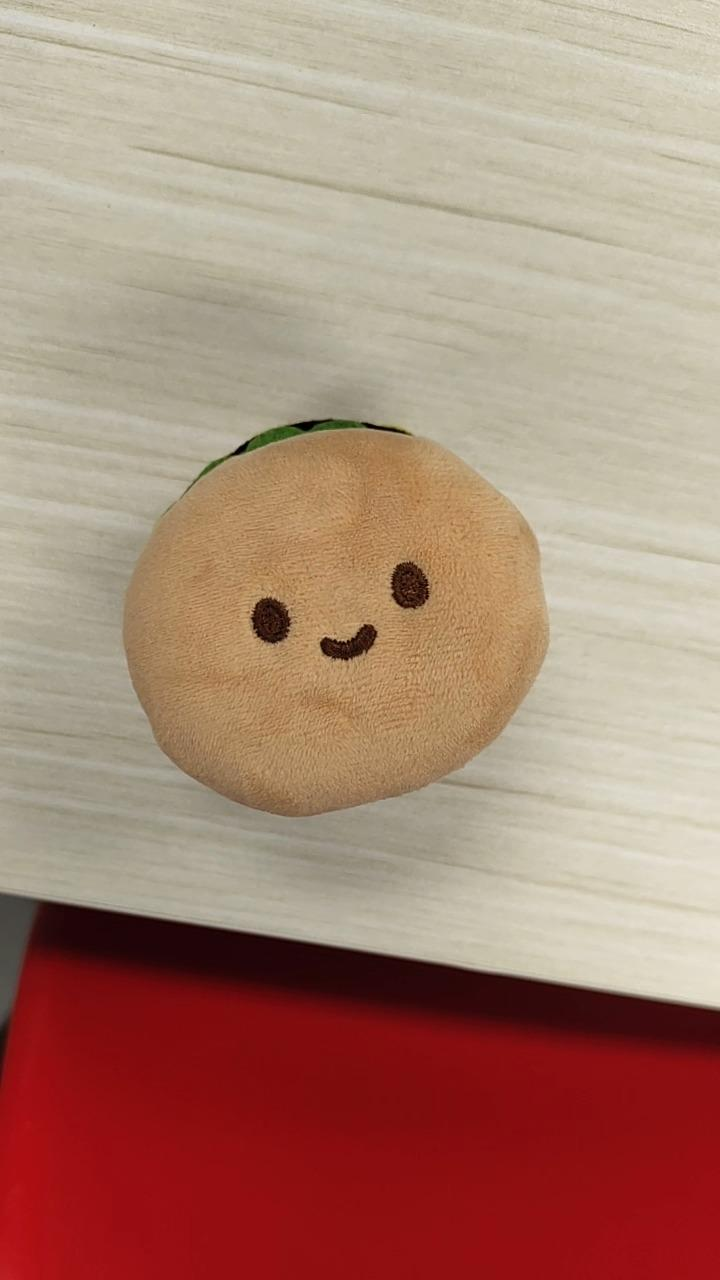hamburger: (120, 415, 551, 819)
